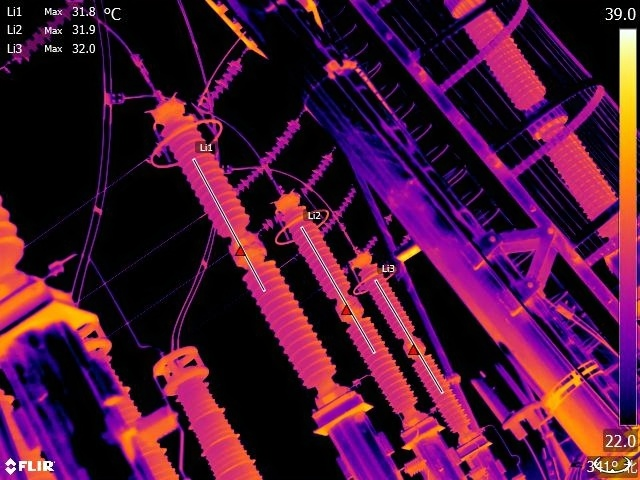clamp: (97, 81, 127, 111), (217, 161, 241, 178)
insulator: (256, 151, 340, 234), (1, 1, 83, 78), (239, 119, 302, 189), (195, 51, 244, 120), (324, 182, 361, 237)
lightning arrester: (144, 87, 347, 389), (274, 186, 425, 414), (345, 242, 474, 433)
potential transformer: (444, 1, 619, 233)
tube: (148, 345, 279, 480)
